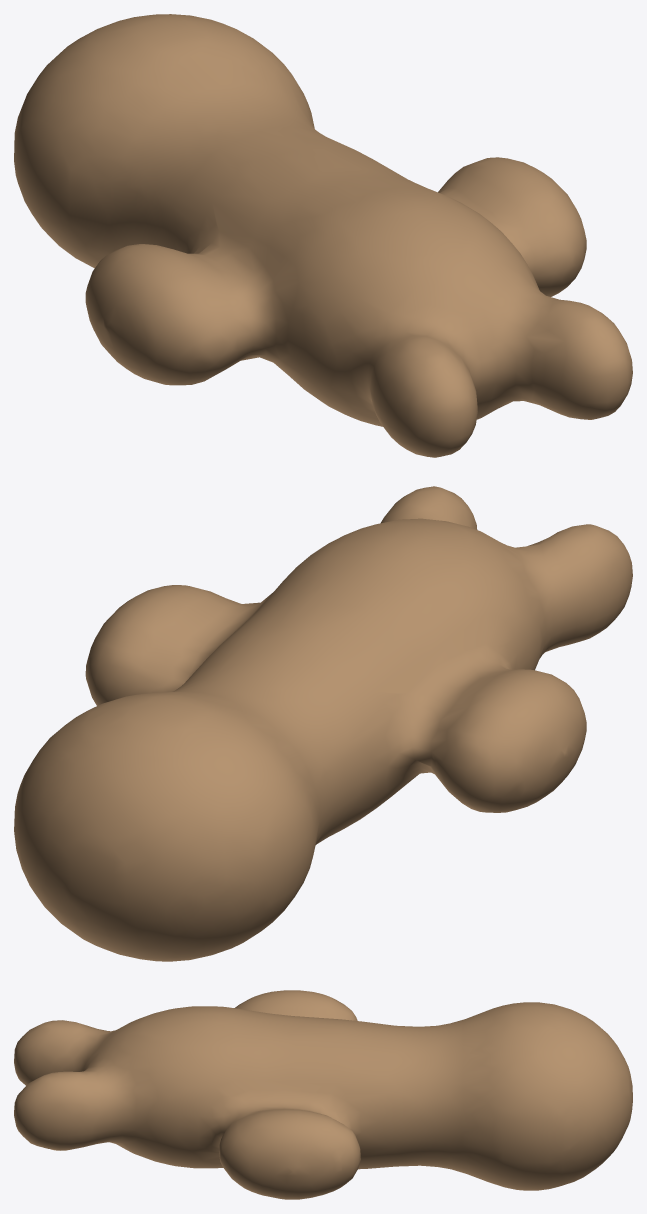
File: sloth.glb
The picture shows the model from 3 angles, top to bottom: view 1: azimuth 30°, elevation 25°; view 2: azimuth 150°, elevation 25°; view 3: azimuth 270°, elevation 25°; orthographic projection. The views are drawn at different scales.
Visible parts, largest first — view 1: sloth_surface; view 2: sloth_surface; view 3: sloth_surface.
Part boxes in pixels (box(x1,y1,x2,y2)): sloth_surface: box(14, 14, 632, 457); sloth_surface: box(14, 486, 632, 961); sloth_surface: box(14, 990, 632, 1199).
Size of the model in its own units: 1.12 by 0.5484 by 1.87.
